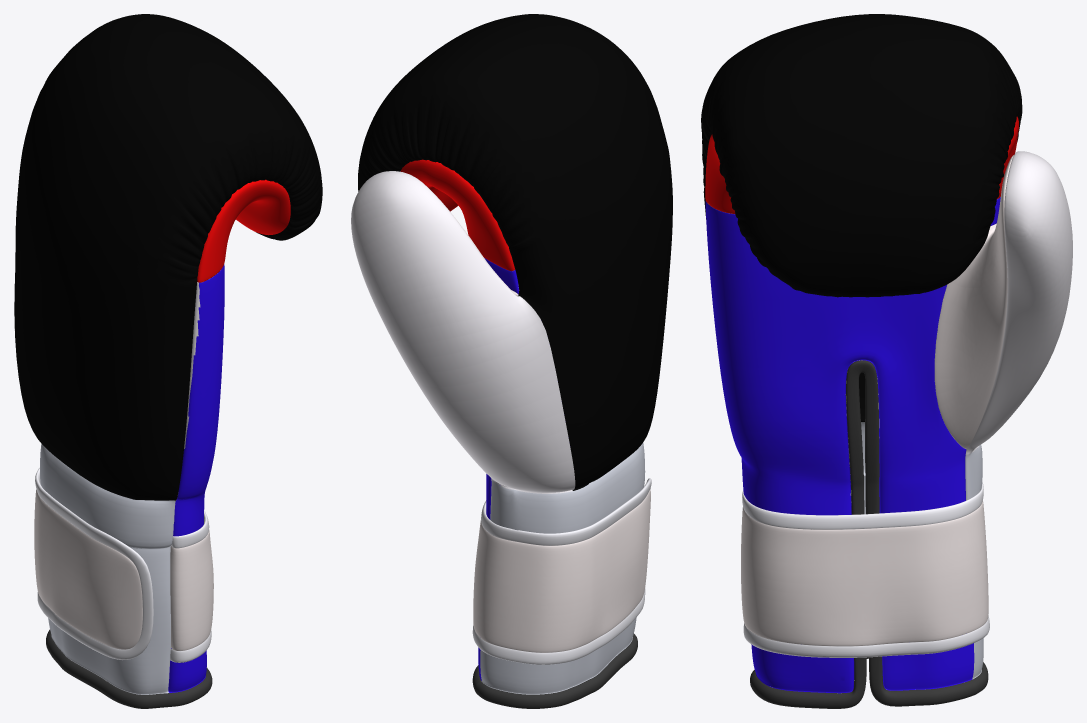
Rendered from Boxing_Gloves_13_Demo_0114.glb.
The picture shows the model from 3 angles, left to right: view 1: azimuth 30°, elevation 25°; view 2: azimuth 150°, elevation 25°; view 3: azimuth 270°, elevation 25°; orthographic projection. The views are drawn at different scales.
Parts seen in each view (by area): view 1: OutterPalm, WristOutline, Wrist, InnerPalm, Strap, Fingers, Outline, OutterThumb; view 2: OutterPalm, OutterThumb, WristOutline, Wrist, Strap, Fingers, Outline, InnerPalm; view 3: OutterPalm, InnerPalm, WristOutline, OutterThumb, InnerThumb, Outline, Strap, Fingers, Wrist.
Boxes of the visible parts, x1,y1,x2,y2 form: OutterPalm: [14, 14, 322, 500]; WristOutline: [34, 489, 213, 650]; Wrist: [40, 444, 175, 694]; InnerPalm: [168, 264, 224, 692]; Strap: [35, 468, 211, 662]; Fingers: [197, 179, 290, 282]; Outline: [46, 629, 212, 708]; OutterThumb: [14, 282, 200, 495]; OutterPalm: [358, 14, 672, 490]; OutterThumb: [351, 171, 575, 493]; WristOutline: [473, 490, 650, 652]; Wrist: [480, 442, 645, 694]; Strap: [472, 478, 651, 664]; Fingers: [400, 159, 515, 271]; Outline: [472, 633, 637, 708]; InnerPalm: [478, 258, 518, 680]; OutterPalm: [701, 14, 1022, 421]; InnerPalm: [705, 197, 1000, 693]; WristOutline: [741, 500, 988, 646]; OutterThumb: [707, 151, 1072, 502]; InnerThumb: [934, 155, 1013, 448]; Outline: [750, 360, 988, 708]; Strap: [742, 482, 989, 657]; Fingers: [705, 116, 1018, 213]; Wrist: [861, 422, 983, 679].
Bounding box in the file's own units: 4.22 × 10.23 × 5.05.
